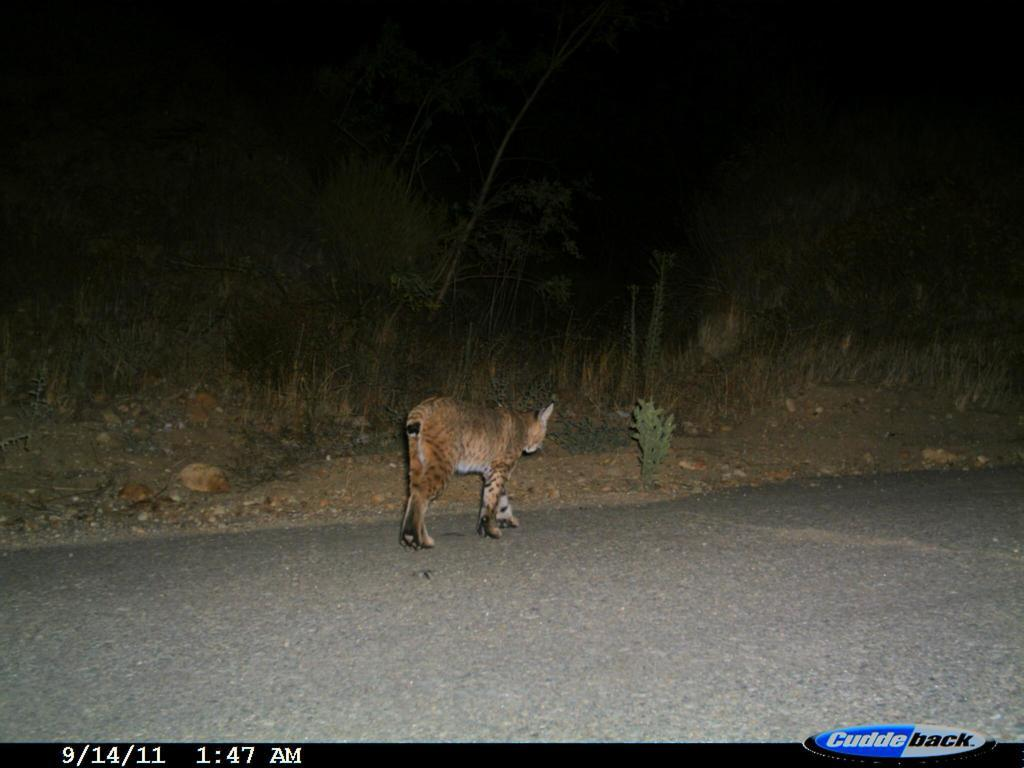bobcat: (378, 365, 568, 559)
